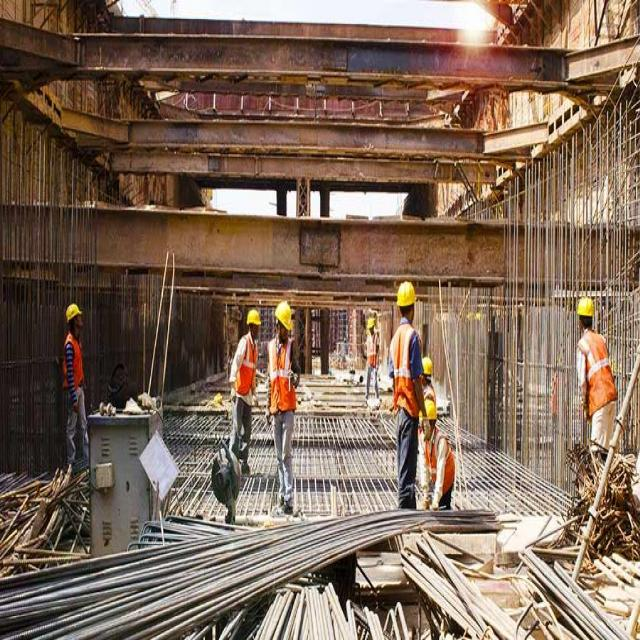Reflective-Jacket: (578, 332, 617, 416), (390, 324, 422, 414), (268, 339, 297, 414), (235, 333, 258, 401), (61, 334, 85, 397), (434, 435, 455, 497), (366, 335, 378, 367)
Safety-Helmet: (396, 277, 418, 309), (274, 298, 294, 332), (64, 301, 84, 324), (577, 296, 595, 317), (245, 306, 262, 328), (423, 398, 438, 422), (366, 315, 376, 330)
